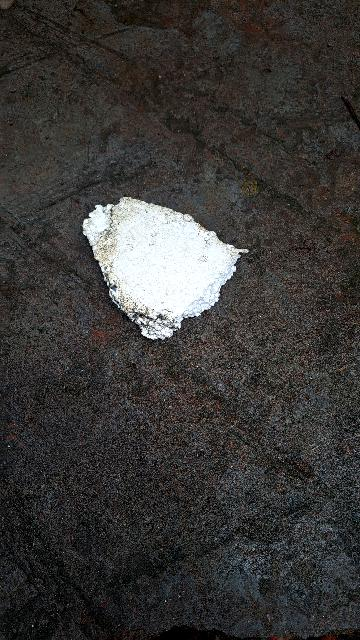cocksheet: (62, 163, 265, 360)
